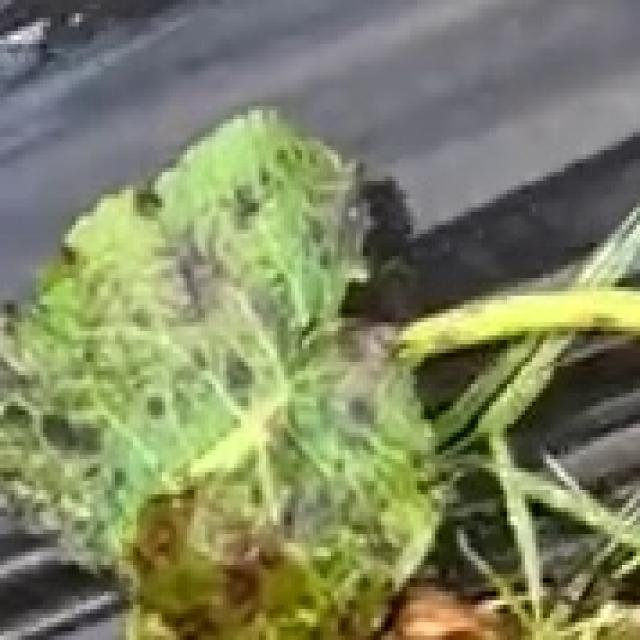organic waste: (0, 88, 564, 639)
